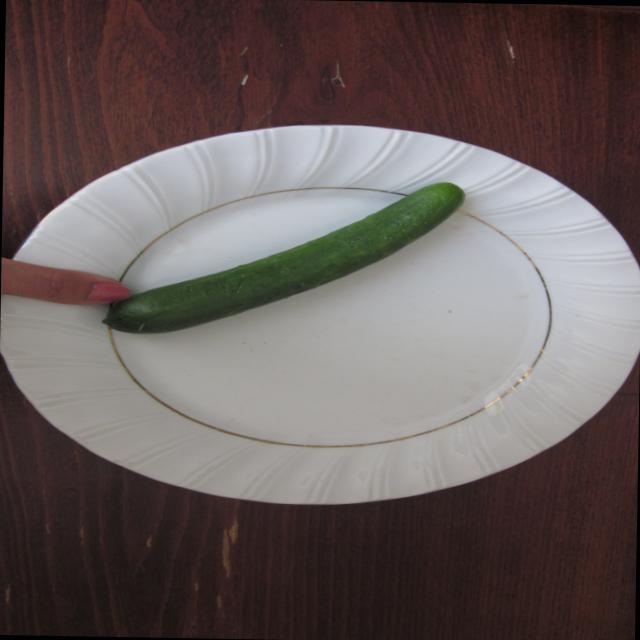Cucumber: (135, 174, 487, 341)
Finger: (20, 258, 130, 308)
